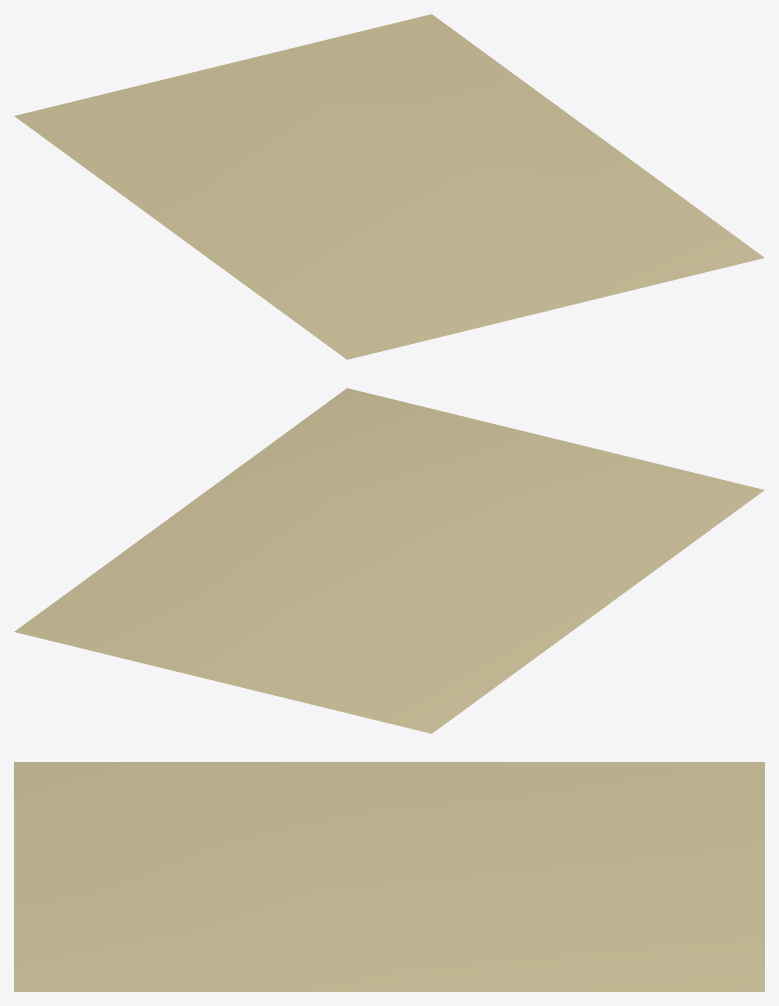
Rendered from SM_Paper_01.fbx.
3 renders of one model, top to bottom at view 1: azimuth 30°, elevation 25°; view 2: azimuth 150°, elevation 25°; view 3: azimuth 270°, elevation 25°, orthographic. The views are drawn at different scales.
Parts seen in each view (by area): view 1: SM_Paper_01; view 2: SM_Paper_01; view 3: SM_Paper_01.
Boxes of the visible parts, x1,y1,x2,y2 form: SM_Paper_01: (14,14,764,359); SM_Paper_01: (14,388,764,733); SM_Paper_01: (14,762,764,991).
Size of the model in its own units: 21 by 1.24 by 29.
